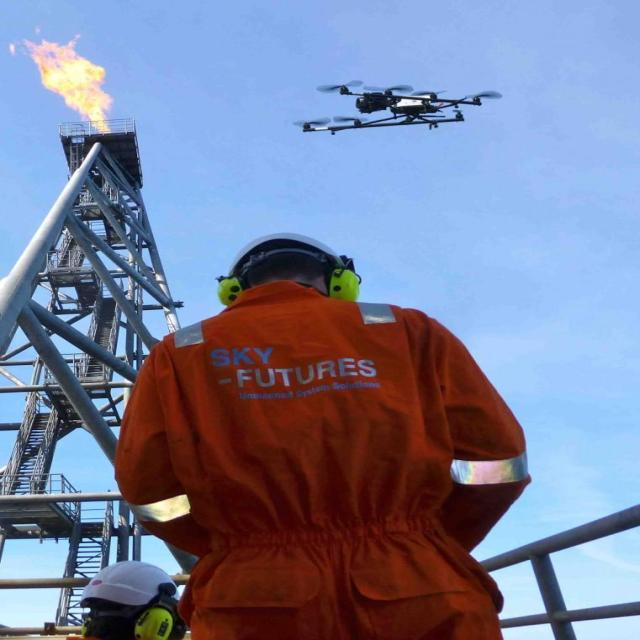drone: (294, 78, 503, 136)
